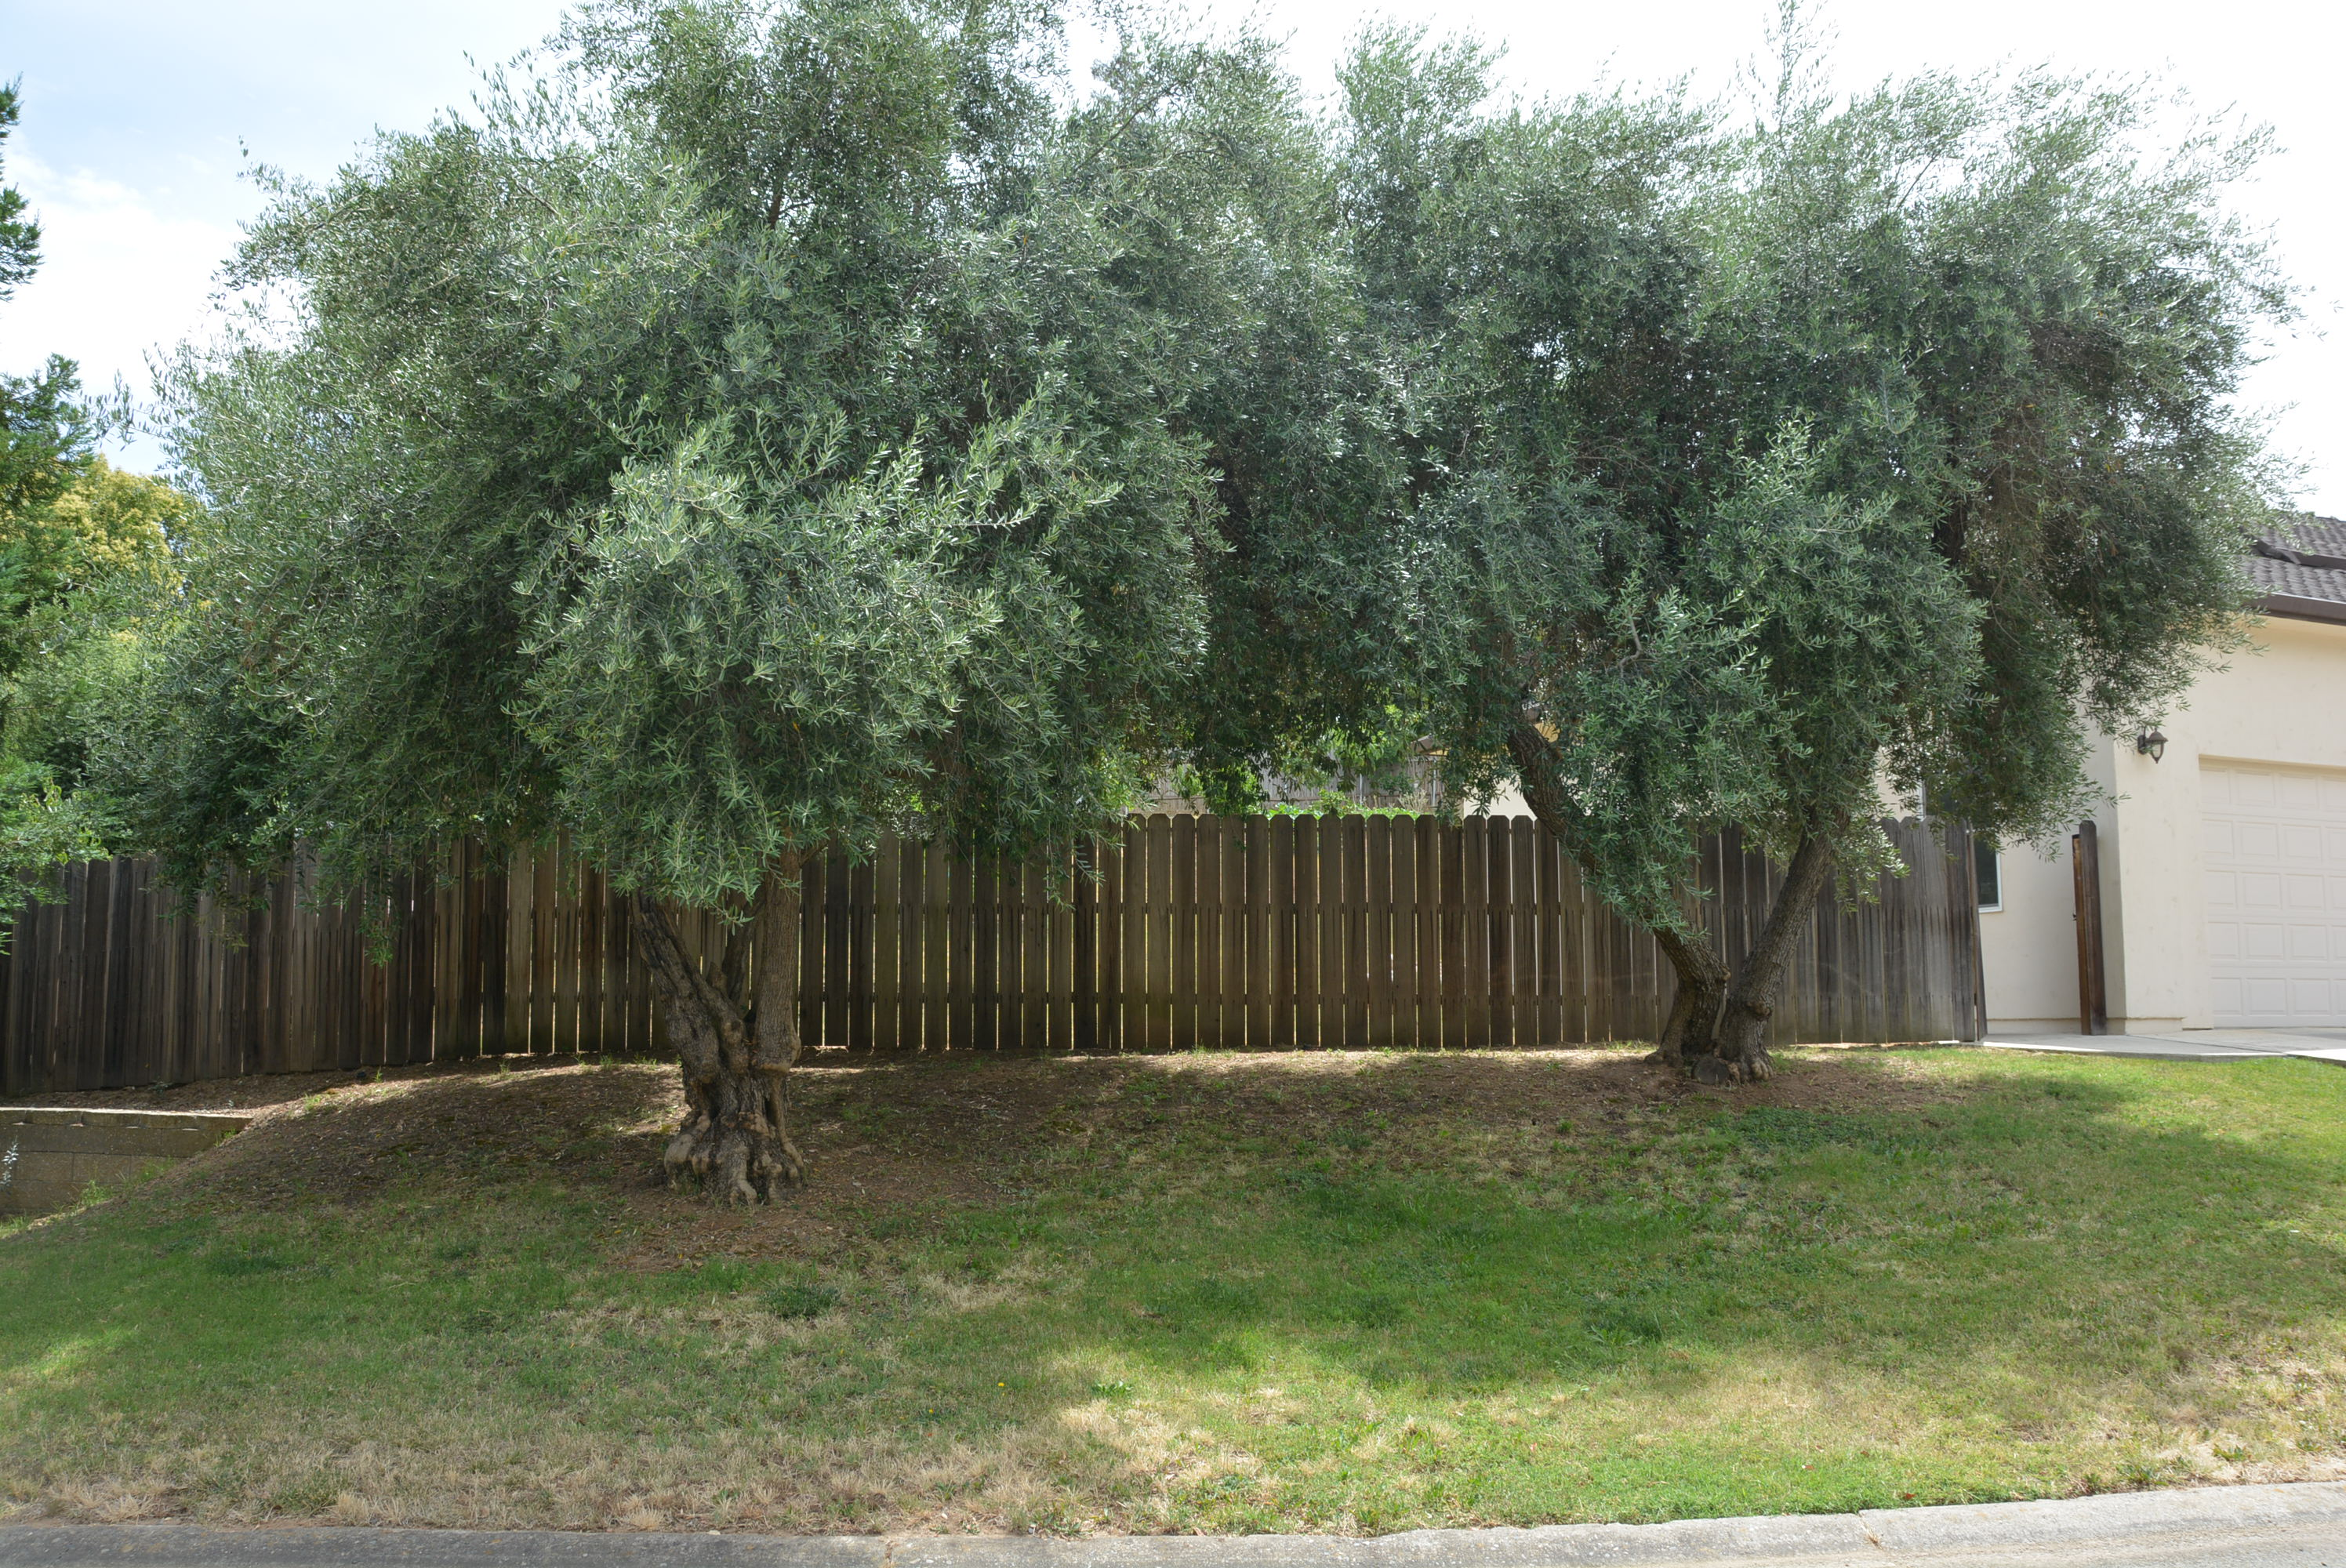tree: (143, 5, 1396, 1202), (1340, 68, 2246, 1066)
